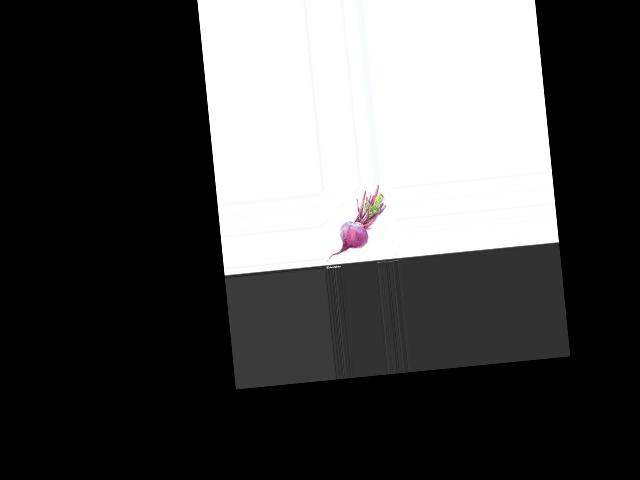beet: (320, 183, 391, 261)
